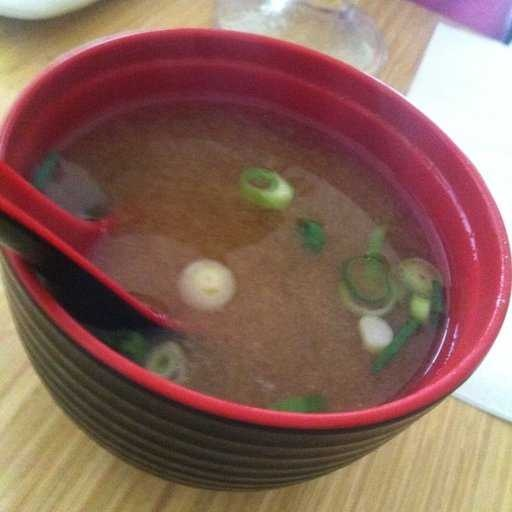soup: (24, 31, 471, 433)
